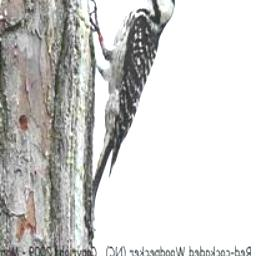Woodpecker: (86, 0, 179, 222)
